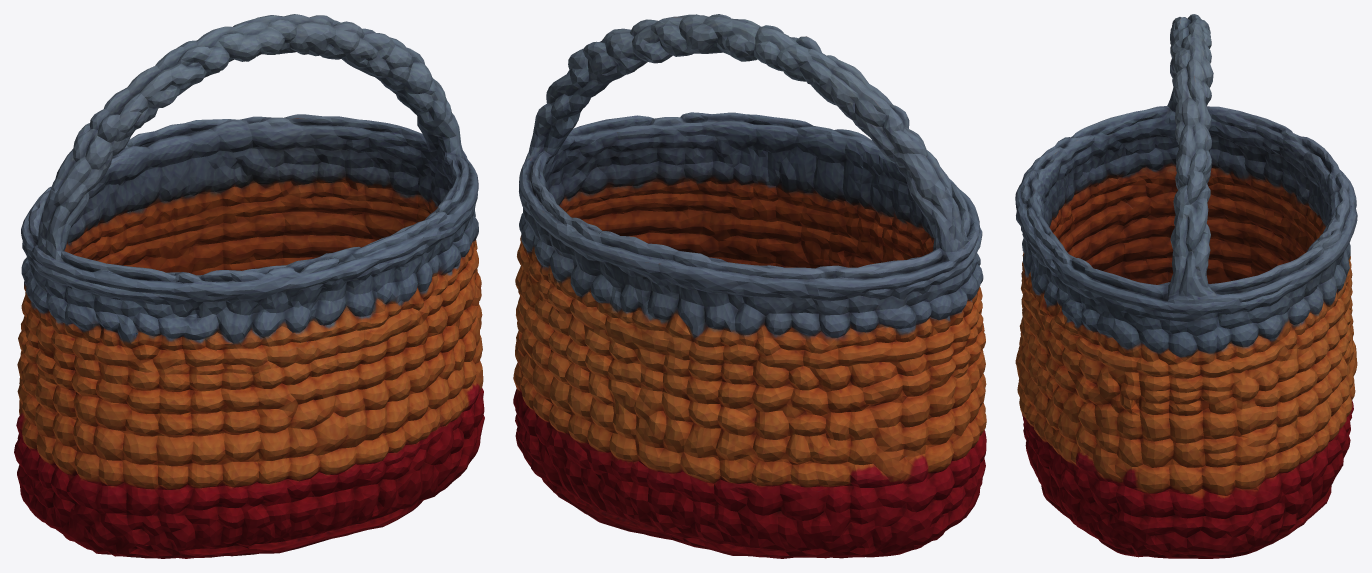
File: BAG 1.glb
3 renders of one model, left to right at view 1: azimuth 30°, elevation 25°; view 2: azimuth 150°, elevation 25°; view 3: azimuth 270°, elevation 25°, orthographic. The views are drawn at different scales.
Visible parts, largest first — view 1: world; view 2: world; view 3: world.
Part boxes in pixels (bbox=[...]): world: bbox=[14, 14, 484, 558]; world: bbox=[513, 14, 986, 558]; world: bbox=[1015, 14, 1357, 558].
Size of the model in its own units: 0.941 by 0.9958 by 0.6936.
1 material, 1 textured.
